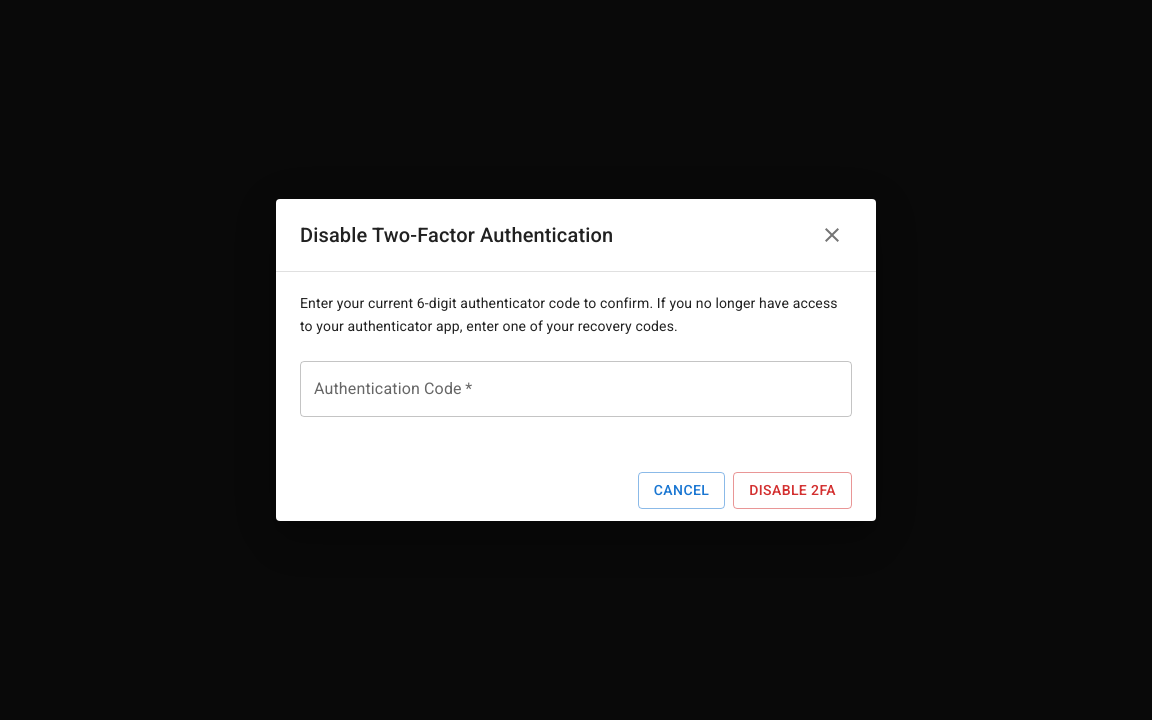
Scenario: Disable2FADialog › Form validation › Shows validation error when submitting empty code
Click the button "Disable 2FA".
click(793, 490)  # box [733,472,852,509]
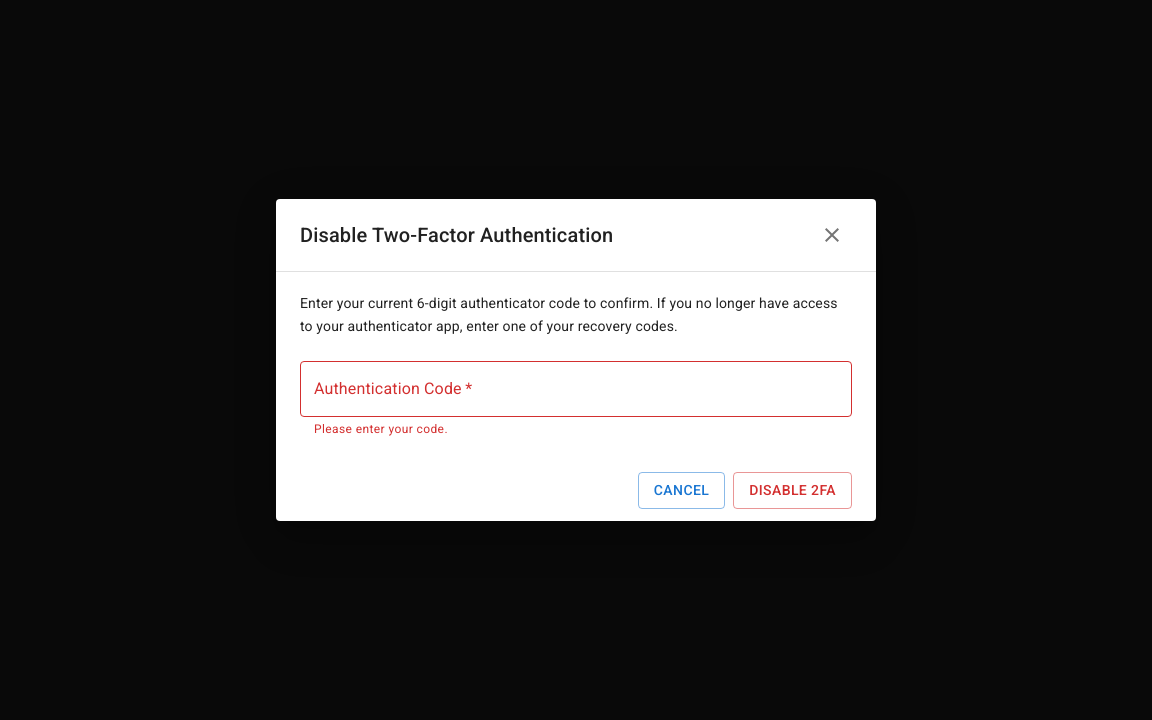
Expected: the text "Please enter your code." is shown, [314,422,448,436]
